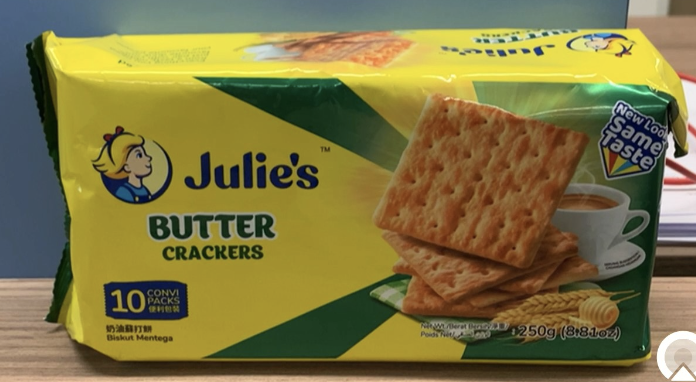crackers_200g-299g: (93, 87, 659, 348)
